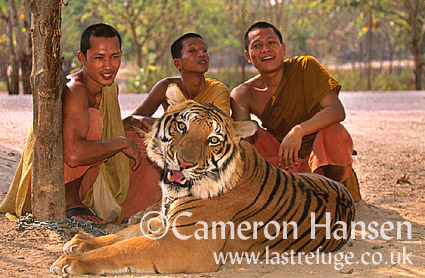Tigre: (147, 95, 358, 263)
